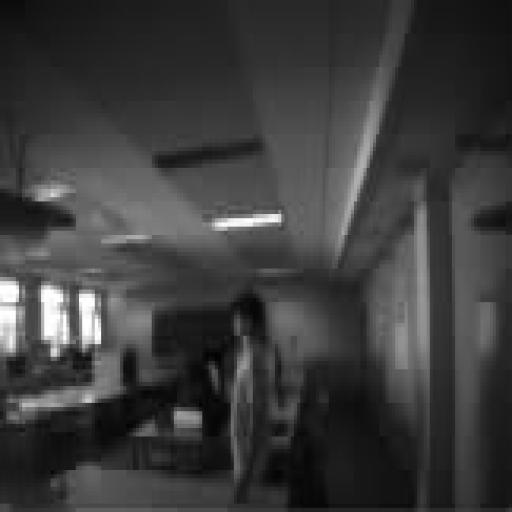human: (231, 290, 274, 503)
